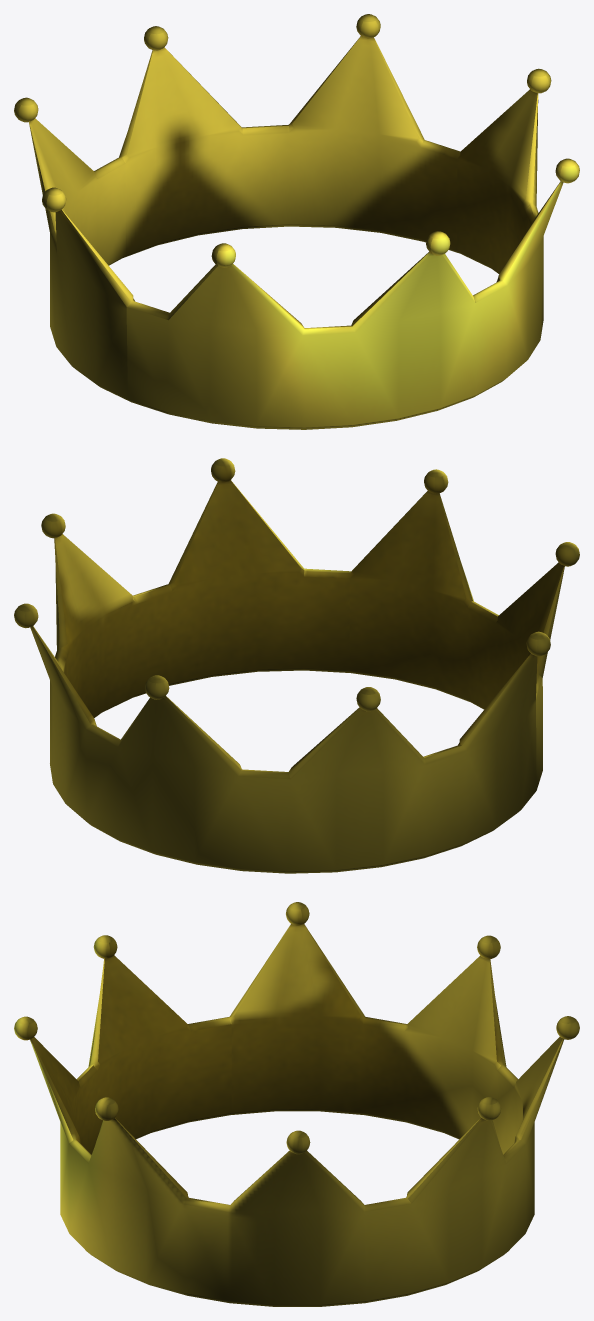
The model's file is crown.obj.
The picture shows the model from 3 angles, top to bottom: view 1: azimuth 30°, elevation 25°; view 2: azimuth 150°, elevation 25°; view 3: azimuth 270°, elevation 25°; orthographic projection. The views are drawn at different scales.
Visible parts, largest first — view 1: TextureAtlas2_mergedObject; view 2: TextureAtlas2_mergedObject; view 3: TextureAtlas2_mergedObject.
Boxes of the visible parts, bbox=[...] form: TextureAtlas2_mergedObject: bbox=[14, 14, 579, 429]; TextureAtlas2_mergedObject: bbox=[14, 458, 579, 873]; TextureAtlas2_mergedObject: bbox=[14, 902, 579, 1306].
Size of the model in its own units: 2.37 by 0.8856 by 2.37.
Materials: 1 (1 with a texture image).
